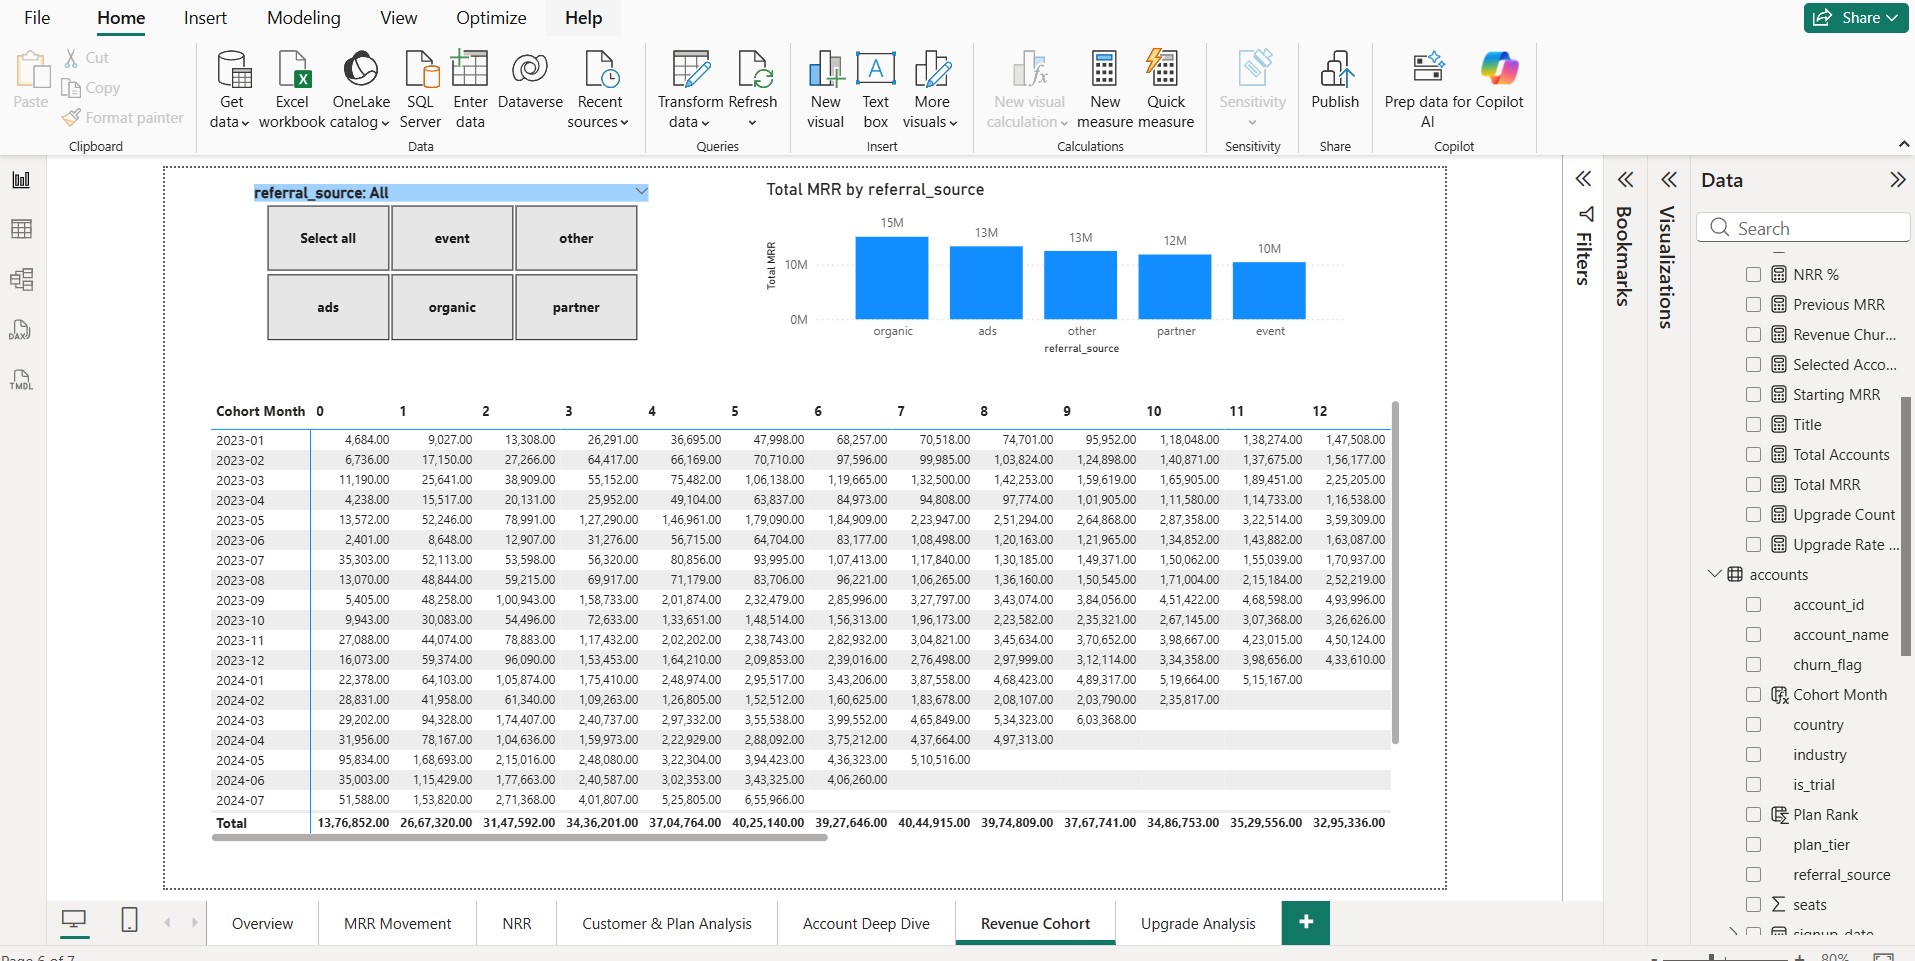

What the dashboard file says about the page in this screenshot:
{"tool":"powerbi","page":{"name":"Revenue Cohort ","canvas":[1280,720],"ordinal":5},"visuals":[{"type":"pivotTable","fields":{"Rows":["accounts.Cohort Month"],"Columns":["fact_account_mrr_monthly.Months Since Signup"],"Values":["Measures Table.Total MRR"]},"box":[41.2,227.5,1198.8,451.2],"z":0},{"type":"slicer","fields":{"Values":["accounts.referral_source"]},"box":[76.2,11.2,420,167.5],"z":1},{"type":"clusteredColumnChart","fields":{"Y":["Measures Table.Total MRR"],"Category":["accounts.referral_source"]},"box":[596.2,11.2,590,180],"z":2}]}

Visuals, with their boxes on the page's 1280x720 design canvas (x1, y1, x2, y2). These are canvas units, not pixel positions in the 1915x961 screenshot, which may show the page scaled, cropped or inside an application window:
pivotTable - accounts.Cohort Month x fact_account_mrr_monthly.Months Since Signup: Rect(41, 228, 1240, 679)
slicer - accounts.referral_source: Rect(76, 11, 496, 179)
clusteredColumnChart - Measures Table.Total MRR x accounts.referral_source: Rect(596, 11, 1186, 191)
